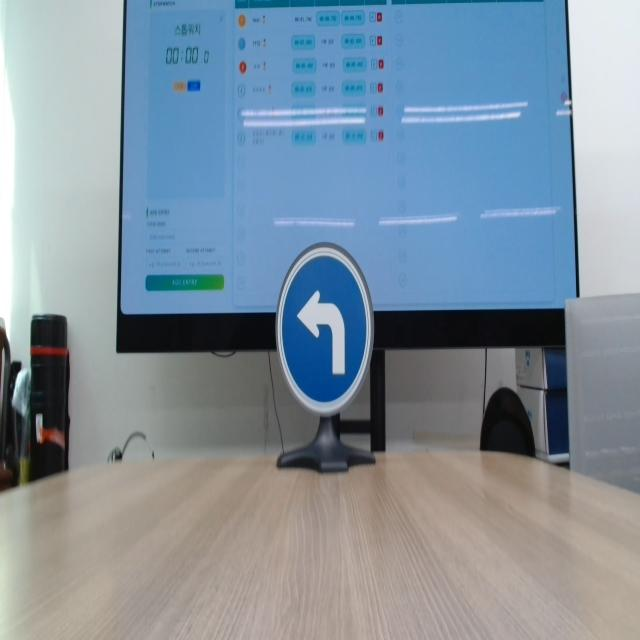left_direction: (260, 227, 398, 438)
